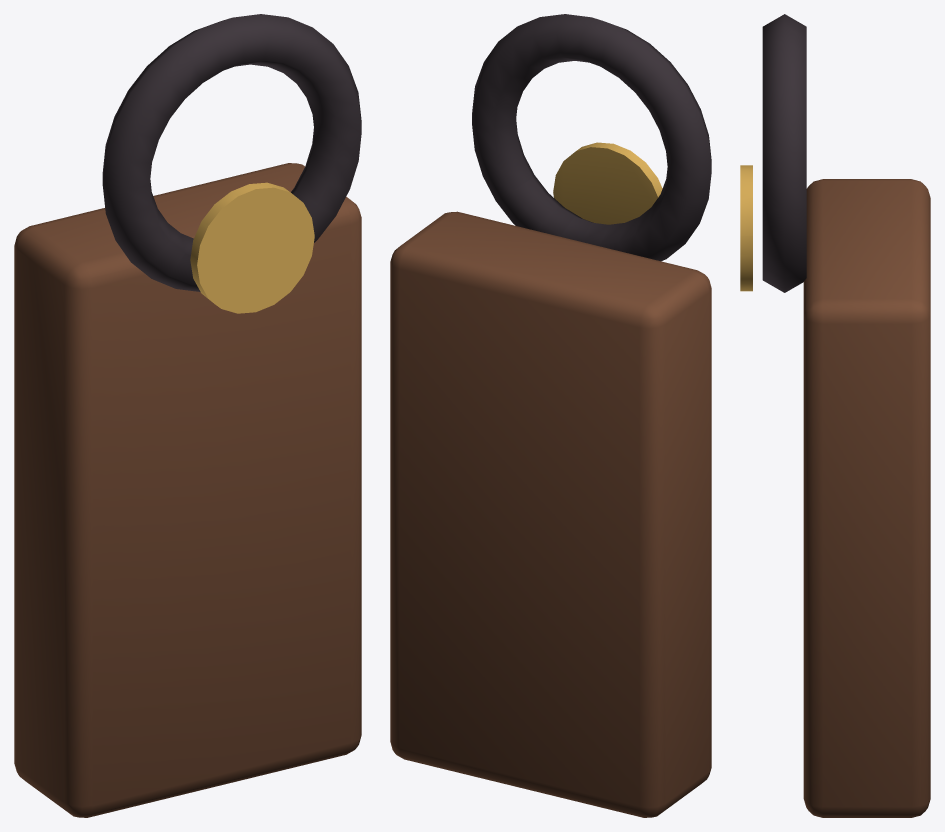
The model's file is gift-rex.glb.
3 views of the same model, side by side, from view 1: azimuth 30°, elevation 25°; view 2: azimuth 150°, elevation 25°; view 3: azimuth 270°, elevation 25° (orthographic). The views are drawn at different scales.
Parts seen in each view (by area): view 1: gift-rex; view 2: gift-rex; view 3: gift-rex.
Part boxes in pixels (bbox=[...]): gift-rex: bbox=[14, 14, 361, 817]; gift-rex: bbox=[390, 14, 711, 817]; gift-rex: bbox=[740, 14, 930, 817].
Size of the model in its own units: 0.5 by 1.27 by 0.3.
